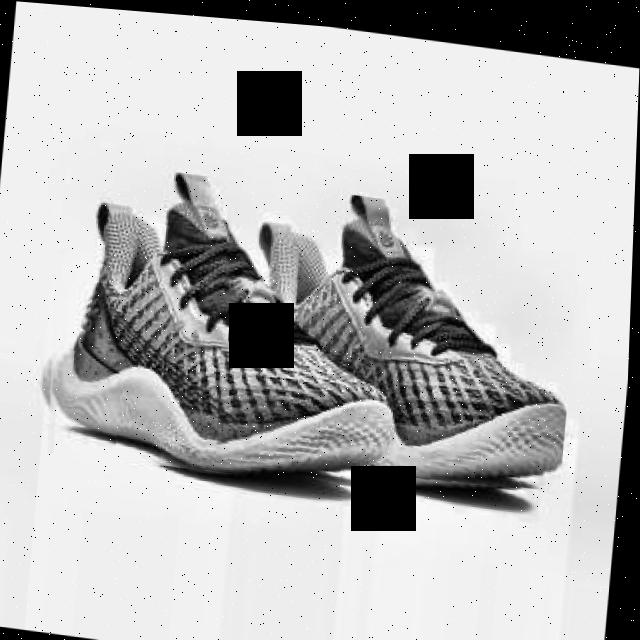shoe: (37, 155, 408, 492), (208, 174, 585, 497)
